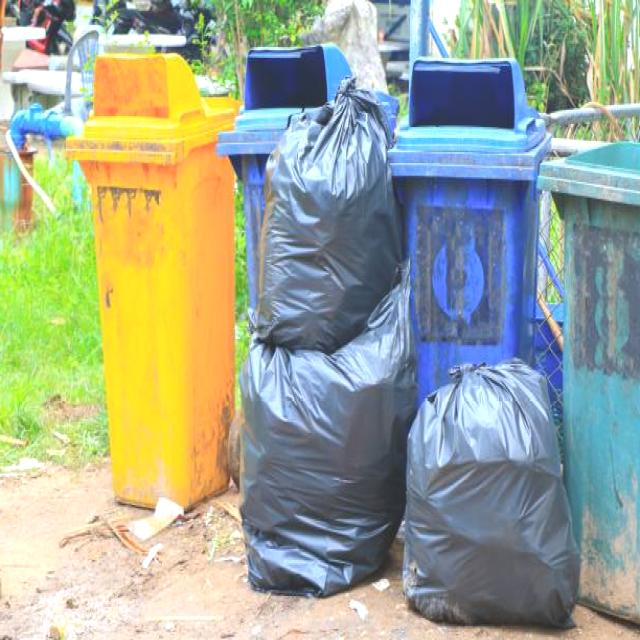garbage: (241, 76, 586, 634)
